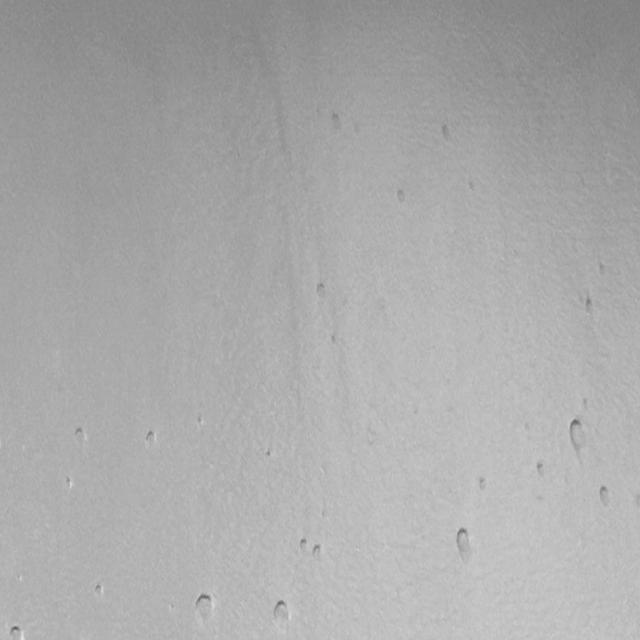pin holes: (564, 416, 588, 454), (193, 592, 217, 627), (451, 528, 474, 561), (270, 597, 292, 629), (327, 111, 346, 137), (597, 484, 614, 511), (438, 122, 457, 146), (73, 423, 91, 448), (142, 428, 162, 450), (314, 280, 329, 303), (536, 461, 552, 482), (582, 296, 598, 317), (395, 187, 410, 208), (298, 536, 312, 556), (93, 582, 108, 600), (9, 624, 26, 639), (63, 474, 75, 494), (476, 476, 489, 494), (595, 261, 608, 279), (310, 542, 324, 558), (195, 412, 207, 430), (264, 446, 276, 461), (329, 333, 338, 349)
